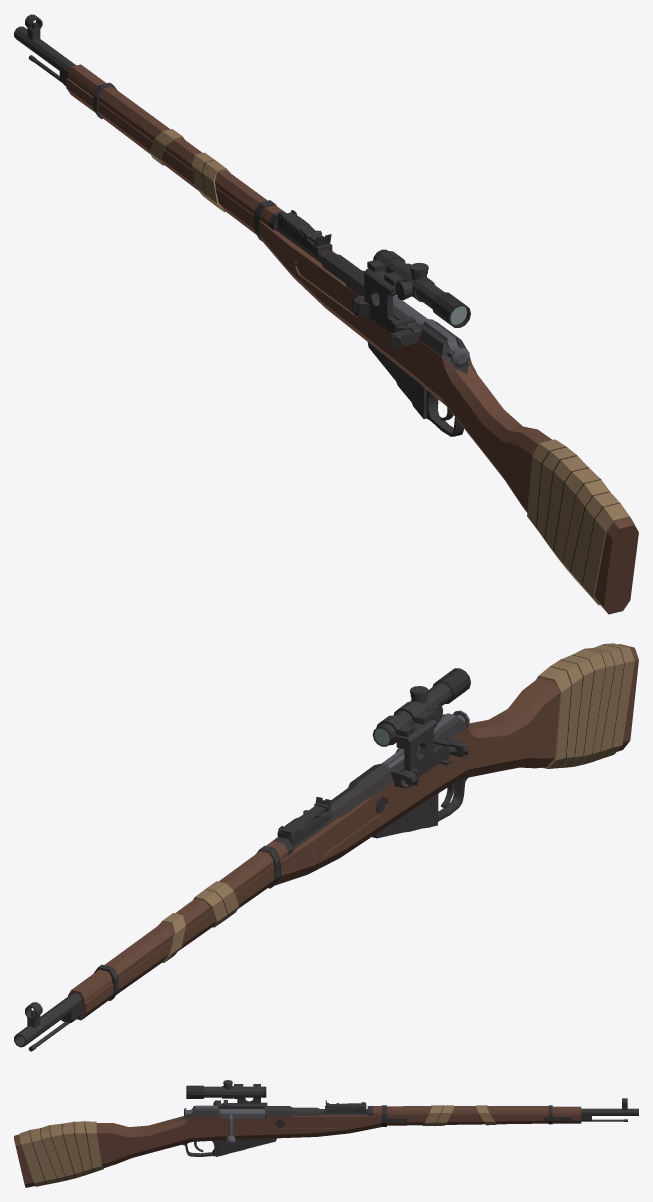
Rendered from sniper.glb.
The picture shows the model from 3 angles, top to bottom: view 1: azimuth 30°, elevation 25°; view 2: azimuth 150°, elevation 25°; view 3: azimuth 270°, elevation 25°; orthographic projection. The views are drawn at different scales.
Visible parts, largest first — view 1: Body_Rifle, Wrap_Stock, Scope_Rings, Reciever, Scope, Trigger_Guard_Magazine, Wrap_Barrel, Barrel; view 2: Body_Rifle, Wrap_Stock, Scope_Rings, Reciever, Barrel, Scope, Trigger_Guard_Magazine, Wrap_Barrel, Sight_Mount, Side_Mount, Sight; view 3: Body_Rifle, Wrap_Stock, Reciever, Scope, Trigger_Guard_Magazine, Wrap_Barrel, Barrel, Bolt, Scope_Rings, Sight_Mount, Side_Mount, Sight.
Boxes of the visible parts, x1,y1,x2,y2 form: Body_Rifle: (66, 64, 638, 614); Wrap_Stock: (527, 439, 634, 605); Scope_Rings: (357, 251, 410, 333); Reciever: (322, 253, 469, 373); Scope: (373, 249, 470, 327); Trigger_Guard_Magazine: (367, 342, 463, 436); Wrap_Barrel: (149, 129, 230, 212); Barrel: (14, 14, 76, 86); Body_Rifle: (68, 644, 638, 1020); Wrap_Stock: (536, 643, 634, 768); Scope_Rings: (376, 702, 448, 785); Reciever: (330, 714, 467, 817); Barrel: (14, 993, 82, 1051); Scope: (372, 668, 470, 746); Trigger_Guard_Magazine: (372, 777, 467, 838); Wrap_Barrel: (158, 881, 239, 962); Sight_Mount: (277, 809, 332, 846); Side_Mount: (390, 735, 463, 787); Sight: (281, 796, 331, 834); Body_Rifle: (14, 1105, 581, 1187); Wrap_Stock: (19, 1121, 103, 1186); Reciever: (179, 1106, 320, 1119); Scope: (186, 1085, 266, 1098); Trigger_Guard_Magazine: (182, 1138, 276, 1156); Wrap_Barrel: (422, 1105, 496, 1125); Barrel: (581, 1098, 638, 1121); Bolt: (219, 1109, 264, 1144); Scope_Rings: (221, 1084, 260, 1104); Sight_Mount: (325, 1102, 366, 1113); Side_Mount: (215, 1100, 267, 1106); Sight: (325, 1100, 364, 1108).
Size of the model in its own units: 0.0271 by 0.0727 by 0.3955.
Materials: 3 (3 with a texture image).
